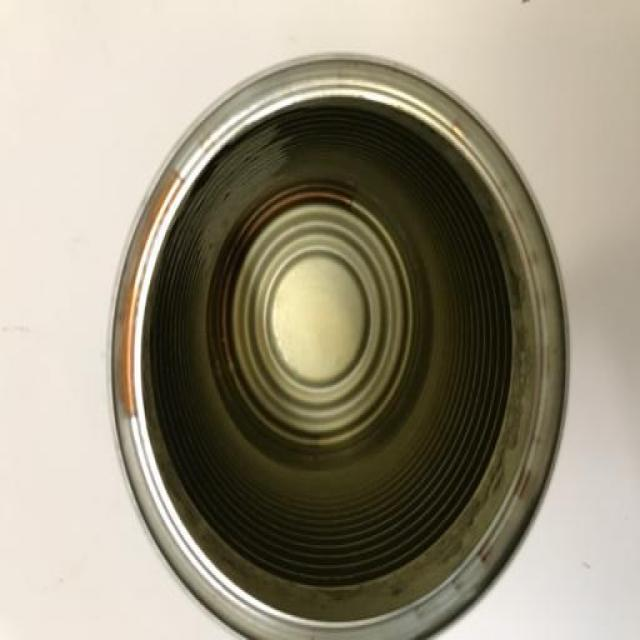metel: (84, 27, 593, 640)
